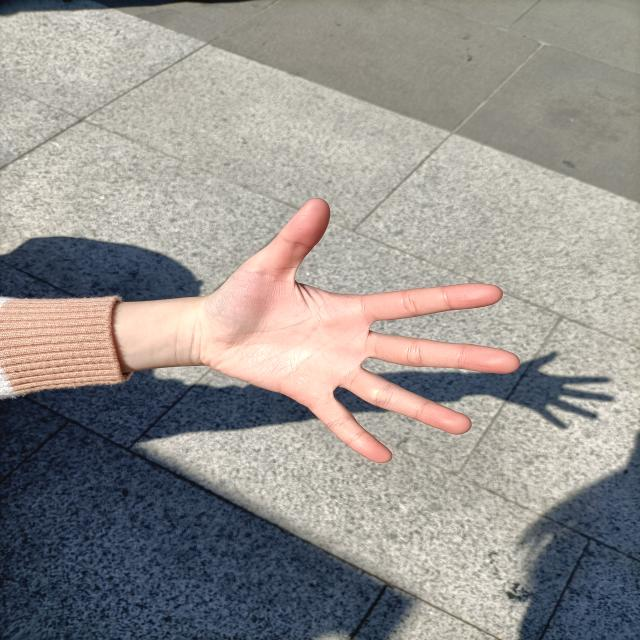no_glove: (179, 184, 528, 474)
